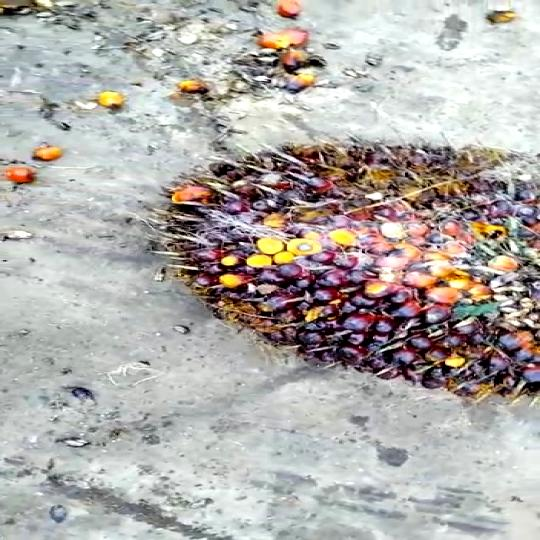masak: (142, 130, 540, 419)
